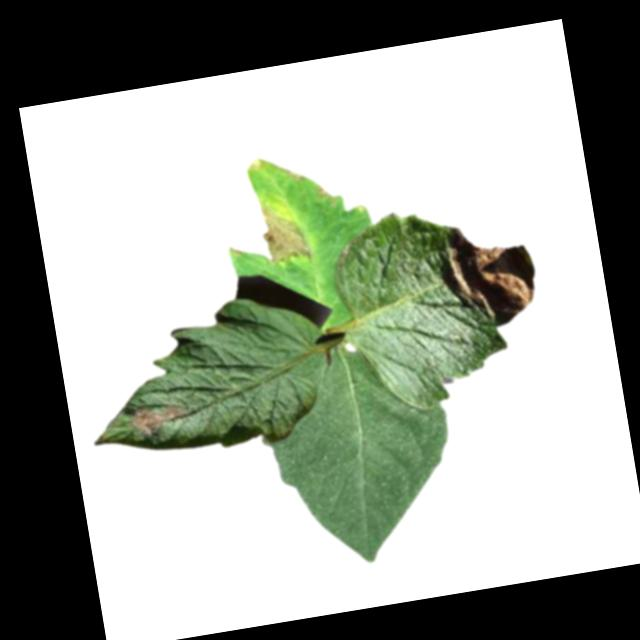Late_blight: (431, 215, 542, 334), (251, 198, 313, 267), (128, 395, 197, 442)
healthy: (250, 331, 470, 578)
